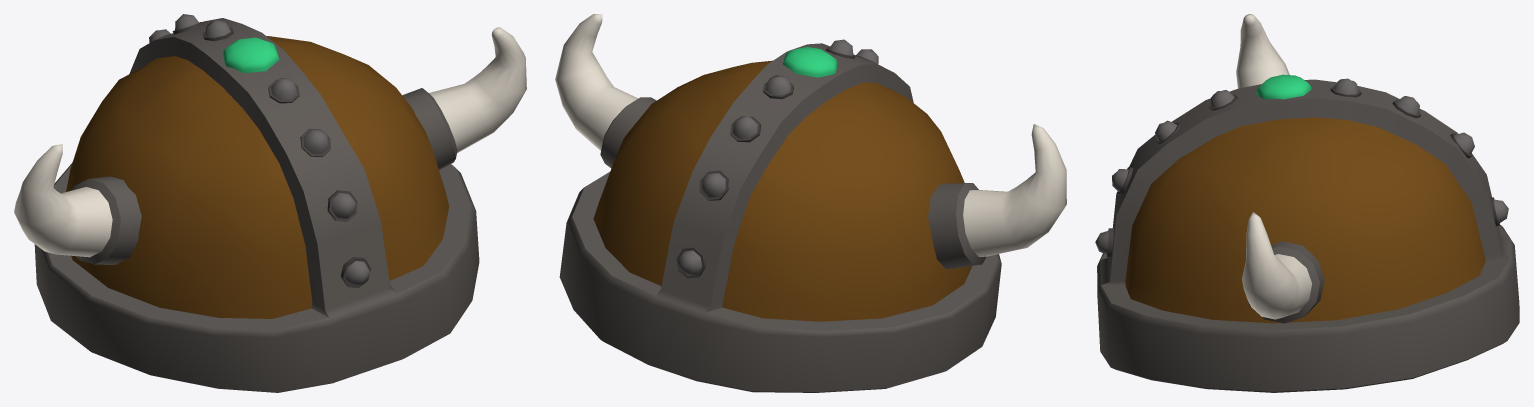
File: Hat_20_02.fbx
3 renders of one model, left to right at view 1: azimuth 30°, elevation 25°; view 2: azimuth 150°, elevation 25°; view 3: azimuth 270°, elevation 25°, orthographic. The views are drawn at different scales.
Visible parts, largest first — view 1: Hat_20_02; view 2: Hat_20_02; view 3: Hat_20_02.
Boxes of the visible parts, <box> form: Hat_20_02: <box>14,14,526,392</box>; Hat_20_02: <box>555,14,1066,392</box>; Hat_20_02: <box>1095,14,1519,392</box>.
Size of the model in its own units: 45.58 by 23.13 by 34.59.
